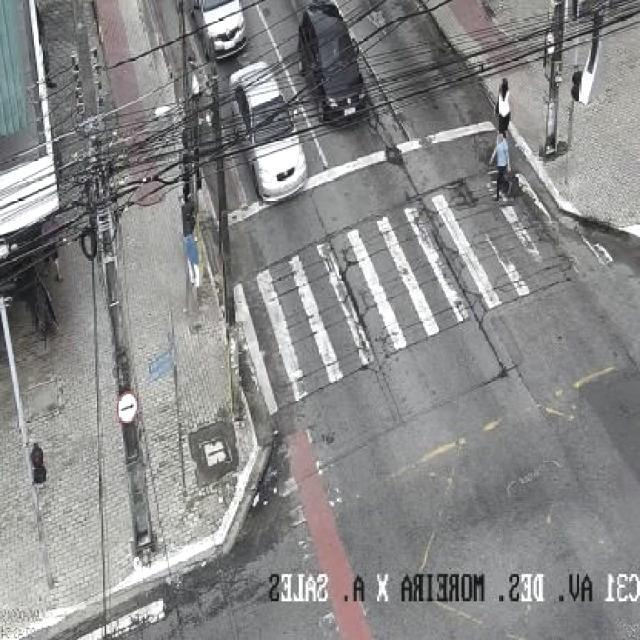Car: (225, 62, 305, 200), (191, 0, 249, 63)
Van: (298, 5, 368, 124)
